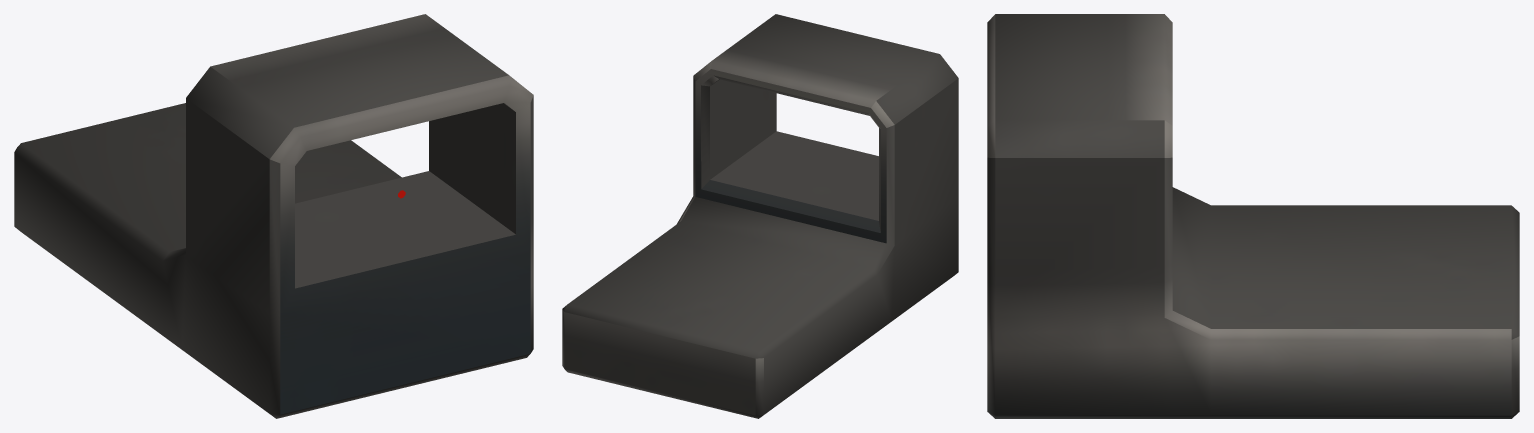
File: G17_RedDotSight.fbx
3 renders of one model, left to right at view 1: azimuth 30°, elevation 25°; view 2: azimuth 150°, elevation 25°; view 3: azimuth 270°, elevation 25°, orthographic. The views are drawn at different scales.
Parts seen in each view (by area): view 1: G17_RED_DOT_SIGHT.001; view 2: G17_RED_DOT_SIGHT.001; view 3: G17_RED_DOT_SIGHT.001.
Boxes of the visible parts, box(x1,y1,x2,y2) form: G17_RED_DOT_SIGHT.001: box(14, 14, 533, 418); G17_RED_DOT_SIGHT.001: box(562, 14, 958, 418); G17_RED_DOT_SIGHT.001: box(987, 14, 1519, 418).
Bounding box in the file's own units: 1.85 × 1.92 × 3.18.
